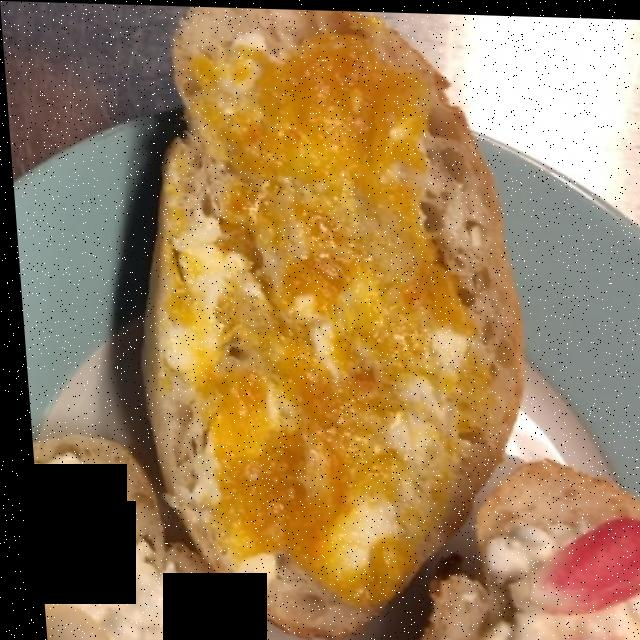bread-whole-wheat: (150, 29, 515, 629)
jam: (187, 33, 458, 605)
